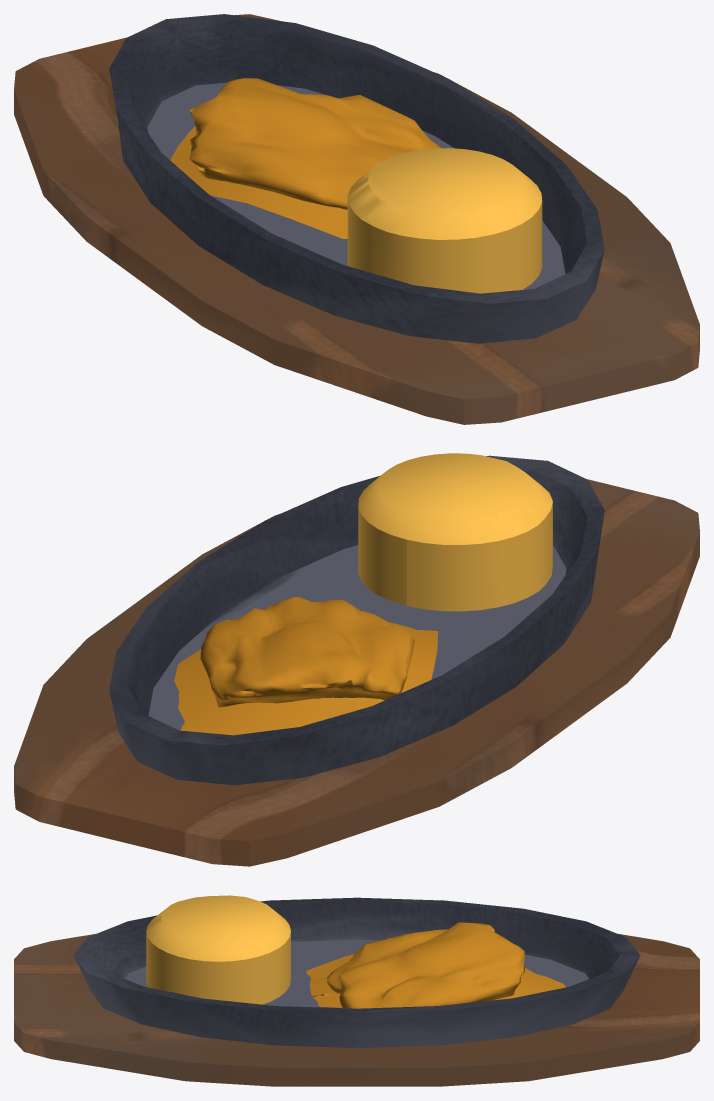
Rendered from Porkchop3D.glb.
3 renders of one model, top to bottom at view 1: azimuth 30°, elevation 25°; view 2: azimuth 150°, elevation 25°; view 3: azimuth 270°, elevation 25°, orthographic. The views are drawn at different scales.
Parts seen in each view (by area): view 1: Plate.001, Sizzling Plate, Rice, Cube.004, Meat_lambert4_0.001; view 2: Plate.001, Sizzling Plate, Rice, Cube.004, Meat_lambert4_0.001; view 3: Sizzling Plate, Plate.001, Rice, Cube.004, Meat_lambert4_0.001.
Boxes of the visible parts, left/top/right/bottom form: Plate.001: left=14, top=14, right=699, bottom=424; Sizzling Plate: left=109, top=14, right=604, bottom=343; Rice: left=347, top=148, right=542, bottom=293; Cube.004: left=189, top=78, right=441, bottom=209; Meat_lambert4_0.001: left=170, top=126, right=347, bottom=238; Plate.001: left=14, top=479, right=699, bottom=866; Sizzling Plate: left=109, top=455, right=604, bottom=785; Rice: left=358, top=453, right=552, bottom=611; Cube.004: left=200, top=596, right=414, bottom=707; Meat_lambert4_0.001: left=174, top=622, right=438, bottom=735; Sizzling Plate: left=73, top=897, right=640, bottom=1048; Plate.001: left=14, top=934, right=699, bottom=1086; Rice: left=146, top=895, right=290, bottom=1004; Cube.004: left=327, top=922, right=524, bottom=1008; Meat_lambert4_0.001: left=306, top=954, right=565, bottom=1007.
Size of the model in its own units: 2.15 by 0.5867 by 4.06.
4 materials, 4 textured.
